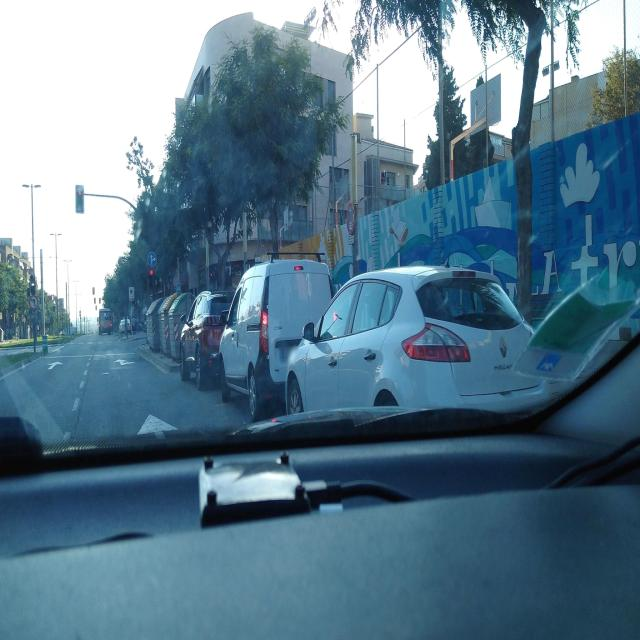car: (284, 265, 535, 415), (216, 254, 334, 422), (179, 288, 235, 389), (98, 308, 113, 336), (119, 319, 131, 334), (62, 326, 78, 336)
